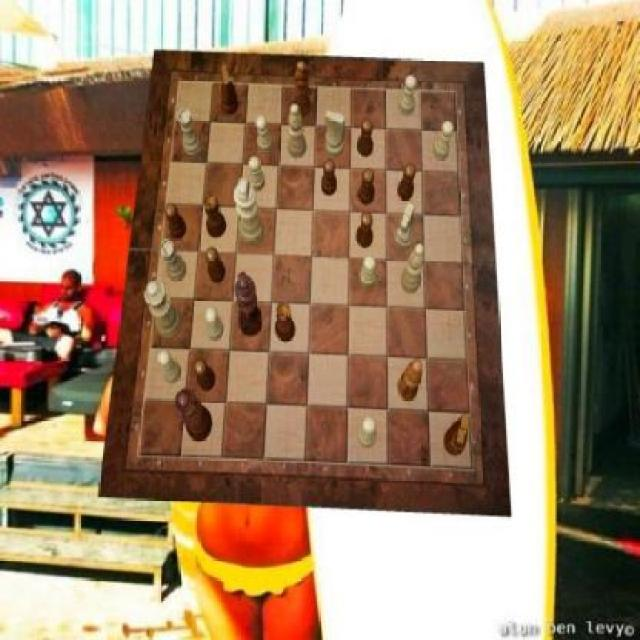bishop: (292, 62, 312, 119), (397, 358, 421, 401)
black-bishop: (235, 271, 263, 336)
black-king: (444, 414, 470, 455), (220, 64, 239, 116)
black-knight: (165, 204, 187, 240), (194, 358, 216, 392), (206, 248, 226, 282), (358, 170, 376, 206), (399, 163, 416, 201), (357, 120, 374, 158), (357, 211, 374, 248), (322, 159, 338, 196)
black-pawn: (175, 388, 213, 442)
black-queen: (203, 192, 227, 238), (276, 303, 296, 343)
black-rook: (402, 243, 424, 294), (288, 103, 307, 158)
white-bishop: (233, 179, 264, 246)
white-king: (394, 203, 414, 251), (326, 111, 346, 158)
white-knight: (158, 349, 182, 384), (434, 122, 454, 160), (399, 75, 416, 117), (255, 115, 273, 154), (204, 308, 223, 342), (358, 417, 378, 449), (359, 257, 376, 289), (248, 157, 264, 191)
white-pawn: (145, 280, 182, 338)
white-queen: (160, 238, 187, 281), (178, 109, 202, 157)
